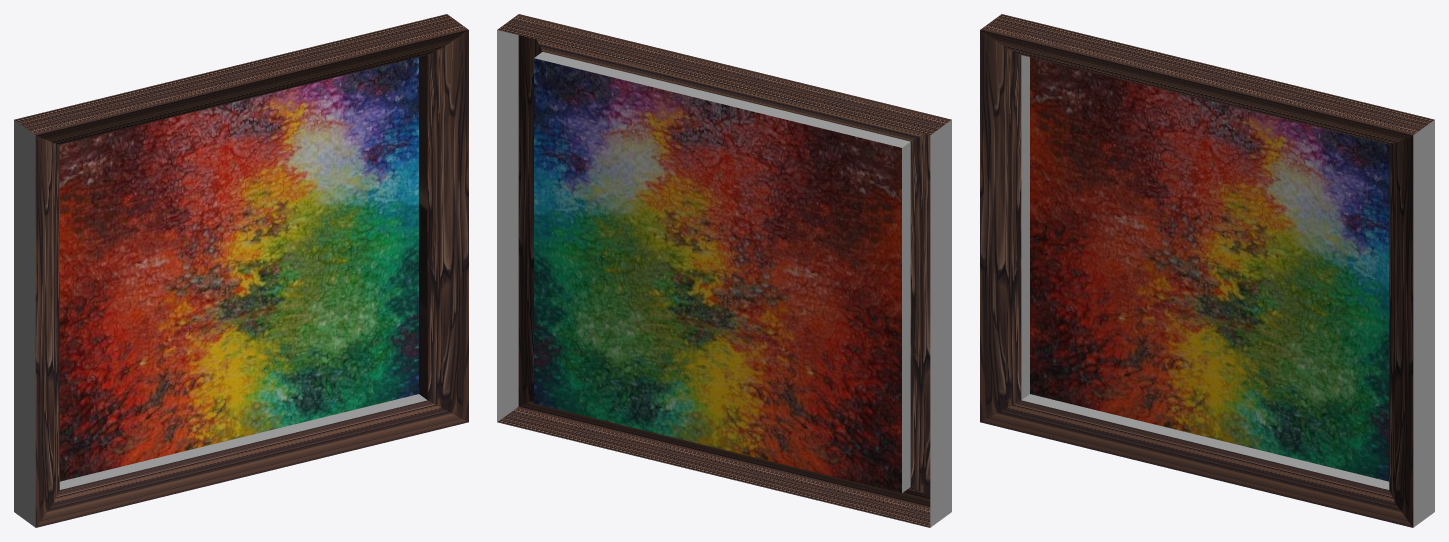
Rendered from Painting1.fbx.
3 renders of one model, left to right at view 1: azimuth 30°, elevation 25°; view 2: azimuth 150°, elevation 25°; view 3: azimuth 330°, elevation 25°, orthographic.
Parts seen in each view (by area): view 1: pCube5; view 2: pCube5; view 3: pCube5.
Boxes of the visible parts, x1,y1,x2,y2 form: pCube5: [14, 14, 468, 527]; pCube5: [497, 14, 951, 527]; pCube5: [980, 14, 1434, 527].
Bounding box in the file's own units: 57.73 × 50 × 5.
